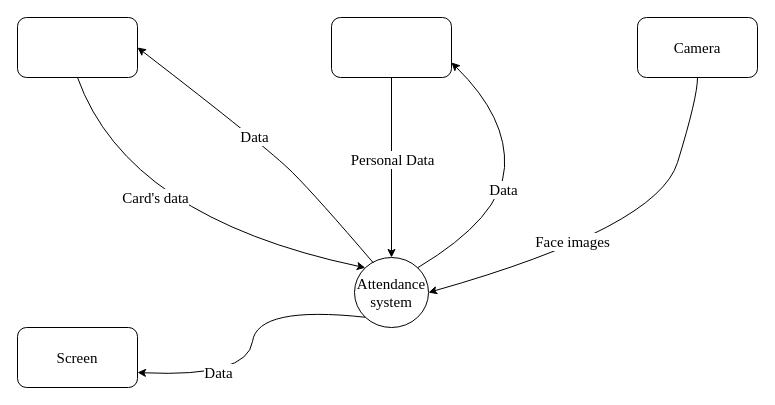
Image size: 775x405. Some labels were removed from this diagram. Each missing label, with the box of its shape:
Employee: (330, 16, 452, 78)
RFID/NFC reader: (16, 16, 138, 78)
